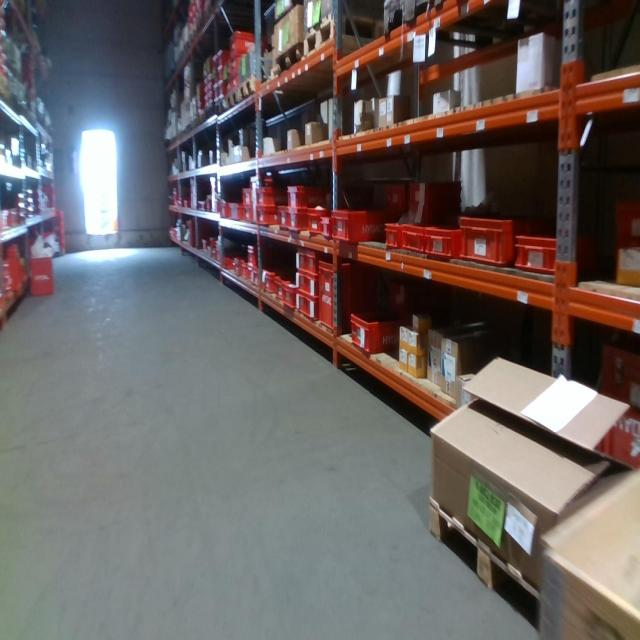pallet: (428, 487, 543, 621), (301, 15, 387, 62), (269, 39, 303, 81), (240, 75, 265, 107), (224, 83, 238, 113)
small_load_carrier: (457, 212, 563, 272), (518, 225, 601, 281), (319, 260, 383, 332), (350, 312, 399, 353), (334, 206, 387, 240), (412, 179, 466, 204), (426, 226, 460, 261), (295, 248, 335, 276), (410, 202, 463, 223), (29, 256, 59, 291), (403, 221, 425, 256), (307, 206, 333, 235), (296, 269, 324, 295), (289, 187, 329, 205), (257, 190, 287, 211), (298, 291, 323, 315), (261, 268, 284, 292), (385, 221, 403, 251), (230, 31, 255, 52), (256, 206, 279, 228), (386, 183, 406, 205), (283, 279, 300, 304), (289, 207, 307, 230), (277, 209, 292, 231), (229, 200, 244, 220), (246, 243, 257, 269), (275, 276, 286, 301), (319, 215, 330, 235)
